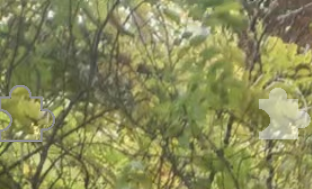target: (247, 82, 312, 145)
